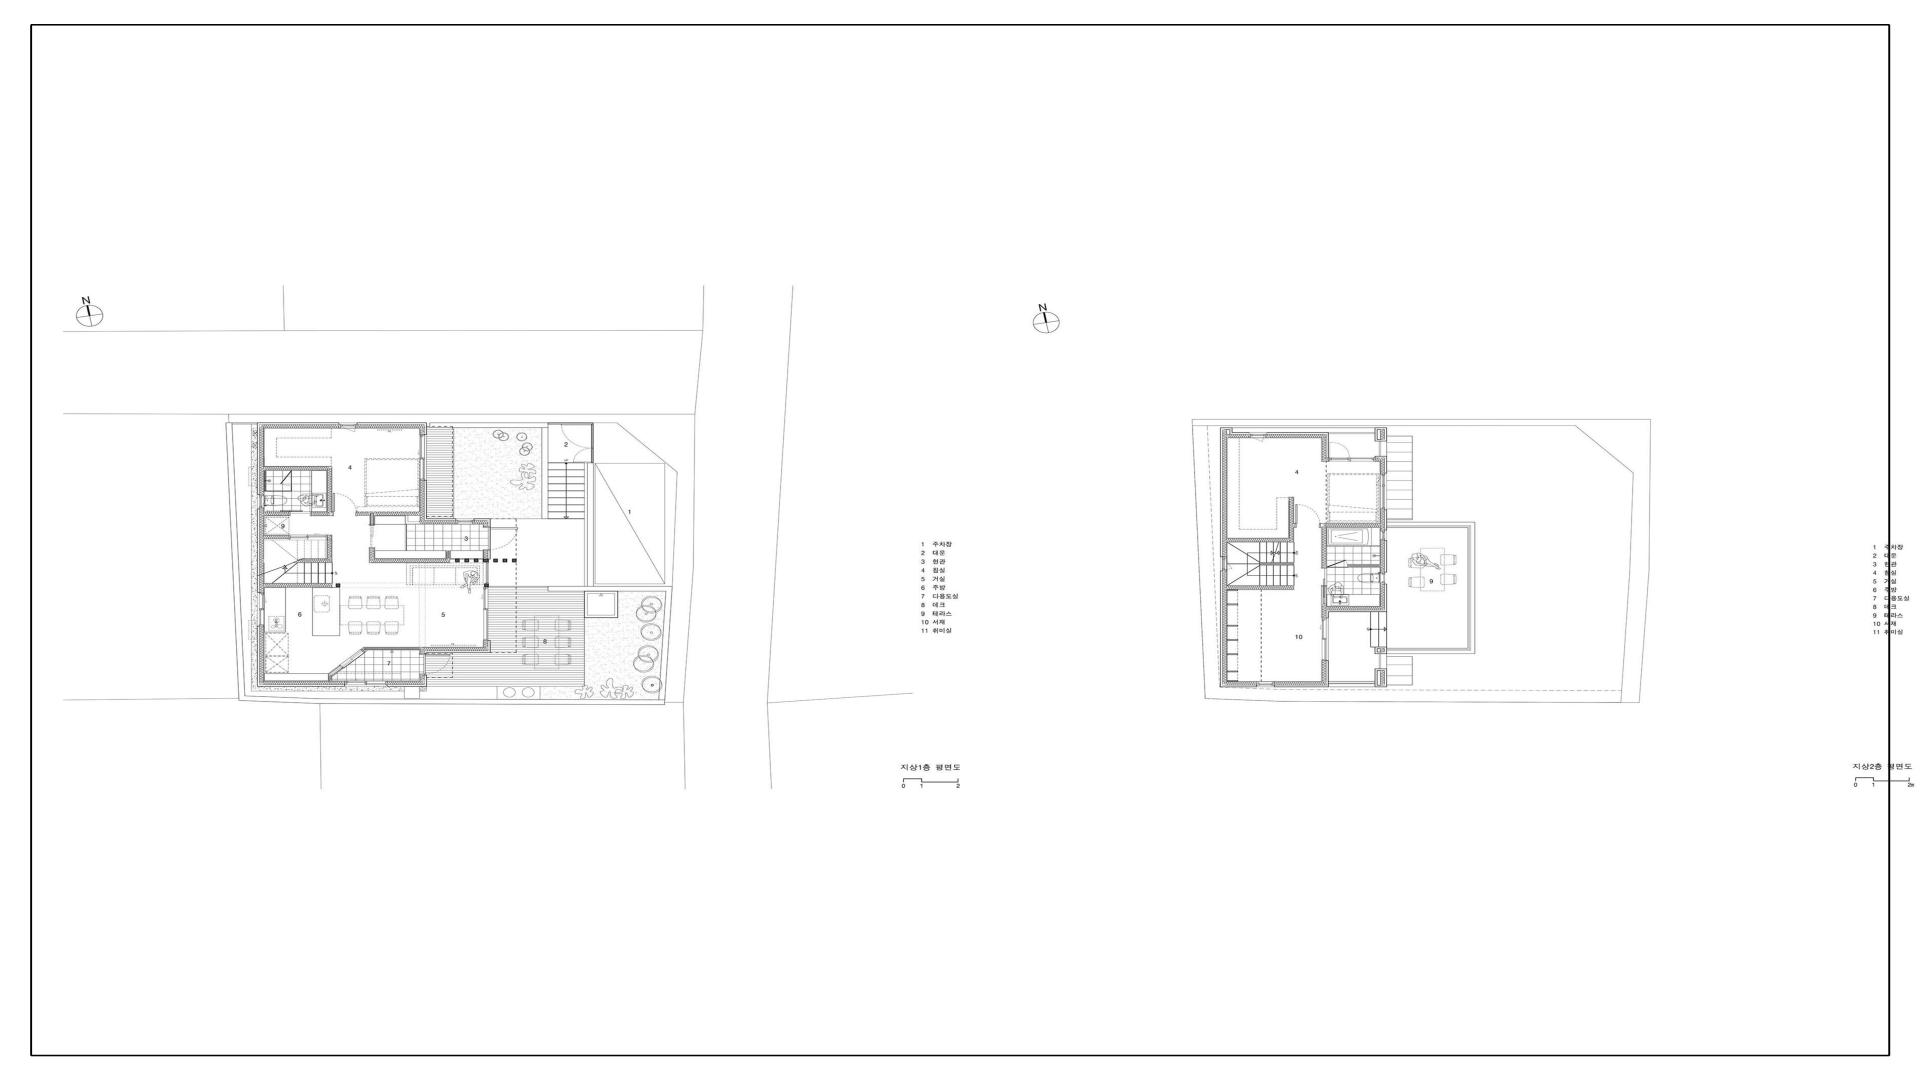door: (483, 527, 518, 550), (419, 653, 451, 675), (1294, 504, 1321, 527), (332, 493, 357, 516), (1329, 442, 1349, 462), (289, 534, 327, 541), (280, 471, 291, 487), (289, 510, 311, 517), (1327, 560, 1348, 567), (369, 526, 375, 547), (1321, 567, 1327, 585)
wall: (1220, 427, 1233, 556), (1220, 571, 1228, 682), (257, 509, 265, 592), (1267, 427, 1329, 438), (257, 680, 344, 687), (376, 558, 483, 563), (264, 422, 339, 429), (257, 422, 264, 495), (357, 422, 427, 429), (257, 626, 265, 680), (265, 583, 340, 588), (419, 480, 427, 524), (421, 647, 484, 653), (264, 465, 327, 471), (1329, 607, 1387, 612), (1274, 682, 1329, 687), (1228, 585, 1295, 589), (1228, 538, 1294, 542), (1321, 585, 1329, 618), (1379, 541, 1387, 572), (357, 512, 419, 516), (327, 467, 332, 512), (361, 647, 421, 651), (1321, 524, 1379, 527), (1375, 669, 1387, 687), (1288, 497, 1294, 538), (328, 666, 343, 680), (1321, 527, 1327, 567), (1220, 682, 1257, 687), (1321, 438, 1329, 462), (1379, 584, 1387, 607), (386, 682, 419, 687), (1375, 427, 1387, 442), (1233, 427, 1249, 438), (1321, 661, 1329, 682), (427, 518, 456, 524), (294, 559, 332, 563), (1379, 456, 1387, 473), (1381, 510, 1387, 530), (327, 535, 332, 559), (473, 518, 491, 525), (369, 547, 376, 563), (483, 550, 491, 563), (264, 535, 289, 539), (264, 512, 289, 516), (1261, 563, 1294, 566), (1348, 564, 1379, 567), (311, 512, 332, 516), (484, 641, 491, 653), (1375, 647, 1387, 654), (421, 675, 427, 687), (369, 516, 375, 526), (419, 429, 427, 435), (264, 491, 291, 492), (446, 551, 451, 558), (1375, 456, 1379, 462), (483, 525, 491, 527), (484, 584, 489, 587), (291, 487, 291, 491)
window: (1468, 522, 1476, 647), (1387, 647, 1476, 654), (339, 649, 365, 669), (1387, 522, 1468, 527), (419, 435, 427, 480), (1321, 618, 1329, 661), (1329, 427, 1374, 434), (345, 680, 386, 687), (1249, 427, 1267, 442), (257, 593, 265, 626), (1381, 473, 1387, 510), (1329, 682, 1374, 687), (484, 587, 488, 641), (1220, 556, 1233, 571), (1375, 442, 1387, 456), (339, 423, 357, 433), (257, 495, 268, 509), (1379, 654, 1387, 669), (456, 518, 473, 525), (1349, 458, 1375, 462), (1379, 572, 1387, 584), (1257, 682, 1274, 687), (485, 563, 489, 584), (1381, 530, 1387, 541)
